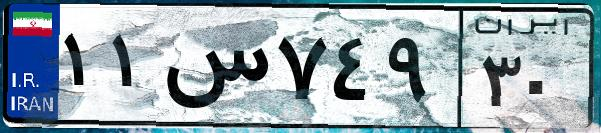0: (525, 38, 570, 115)
1: (57, 26, 110, 100), (110, 28, 158, 98)
3: (475, 38, 525, 113)
4: (330, 28, 385, 110)
7: (270, 28, 330, 110)
9: (385, 28, 445, 110)
س: (158, 20, 270, 120)
